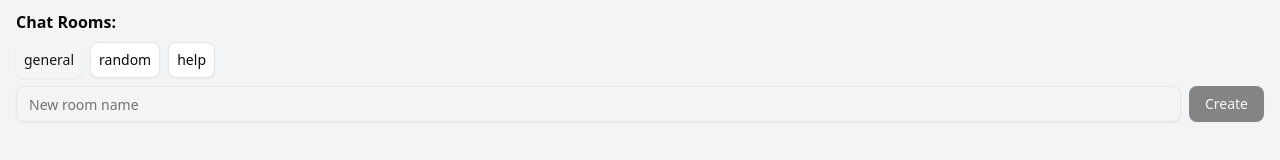
Test: RoomList Component › enables create button when input has value
The image size is (1280, 160).
Type "new-room" into the field with placeholder "New room name".
click(598, 104); type("new-room")  # box [16,86,1181,122]
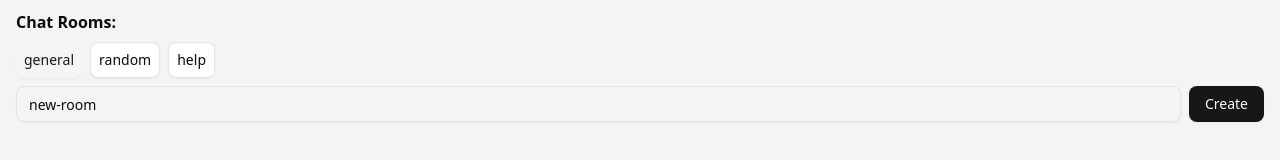
Now the button "Create" is enabled, box [1189,86,1264,122]
